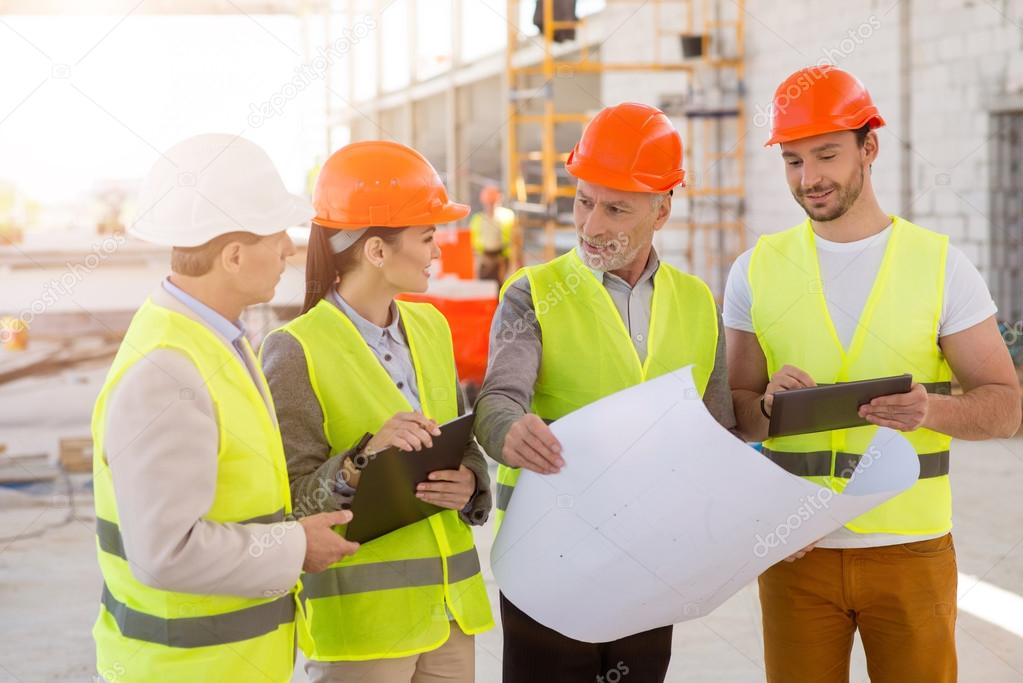casco: (122, 131, 318, 248), (312, 139, 474, 229), (564, 101, 687, 195), (762, 63, 887, 149)
